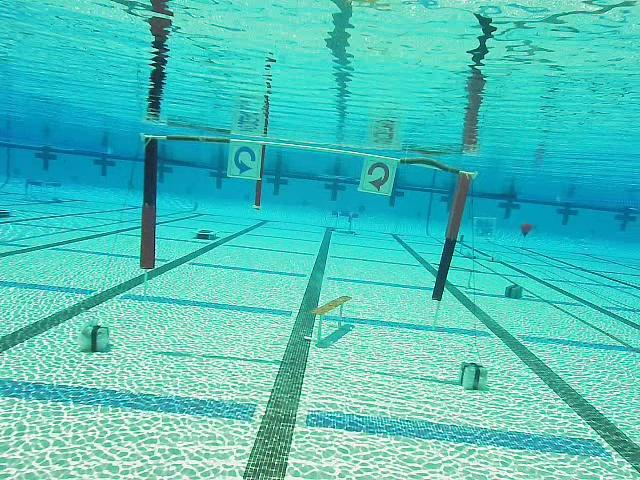buoy: (521, 221, 533, 238)
dropper: (193, 227, 220, 242)
gate: (140, 137, 472, 300)
gate_blue: (227, 142, 262, 180)
gate_leg_l: (140, 136, 158, 269)
gate_leg_r: (429, 171, 471, 301)
gate_red: (360, 156, 397, 196)
table: (331, 210, 358, 234)
torpedo: (475, 216, 496, 239)
